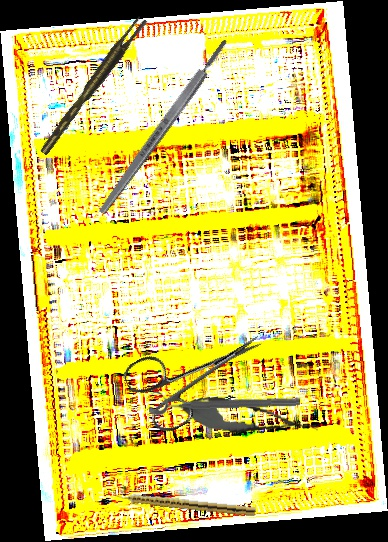Fixation Ring: (148, 385, 301, 416)
Handpiece: (111, 489, 257, 517)
Iris Scissors: (119, 303, 279, 440)
Micro Scissor: (176, 390, 321, 445)
Scalpel Handle: (95, 35, 232, 218)
Tissue Forceps: (33, 14, 152, 156)
